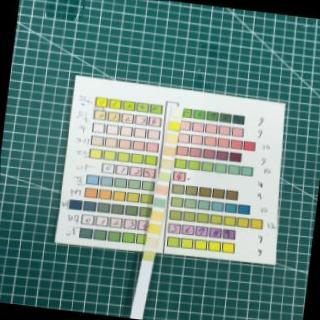mark: (169, 122, 180, 132), (149, 239, 160, 249), (162, 160, 172, 170), (172, 108, 182, 117), (164, 147, 174, 156), (150, 224, 160, 233), (144, 251, 154, 260), (155, 198, 164, 207), (158, 185, 167, 193), (153, 211, 161, 220), (161, 173, 169, 181), (167, 135, 175, 142)
